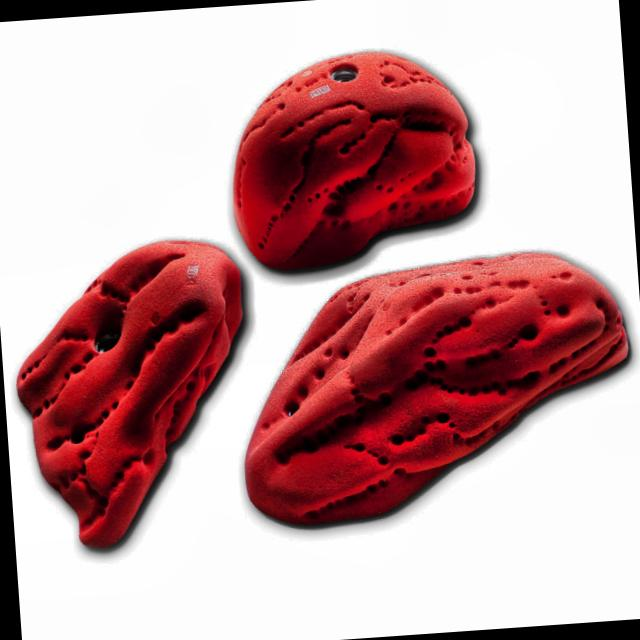Hold: (234, 240, 636, 550), (2, 236, 256, 562), (228, 38, 487, 272)
